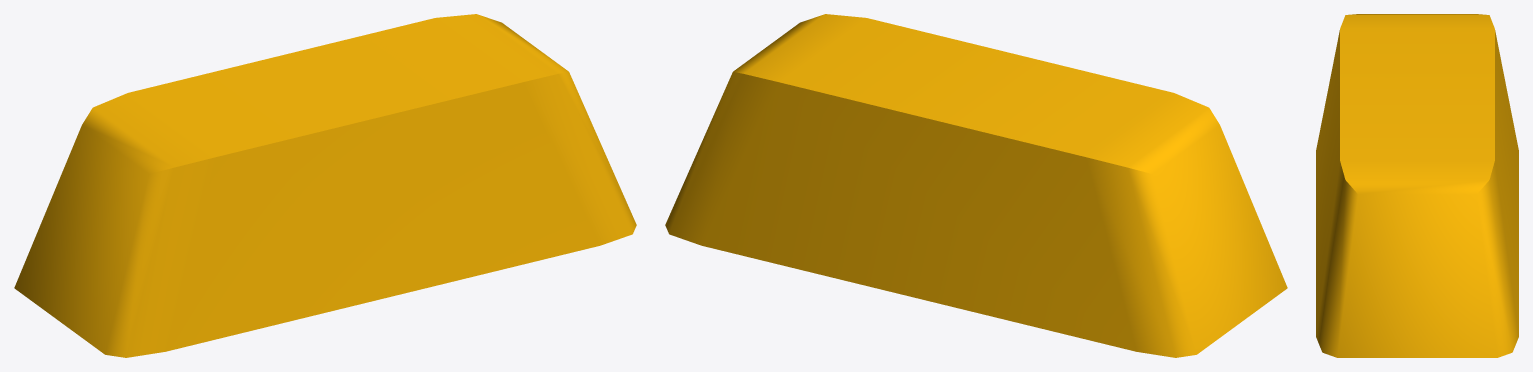
The picture shows the model from 3 angles, left to right: view 1: azimuth 30°, elevation 25°; view 2: azimuth 150°, elevation 25°; view 3: azimuth 270°, elevation 25°; orthographic projection. The views are drawn at different scales.
Visible parts, largest first — view 1: GoldNugget; view 2: GoldNugget; view 3: GoldNugget.
Part boxes in pixels (<box>): GoldNugget: <box>14,14,636,357</box>; GoldNugget: <box>665,14,1287,357</box>; GoldNugget: <box>1316,14,1518,357</box>.
Bounding box in the file's own units: 197 × 59.89 × 73.86.
